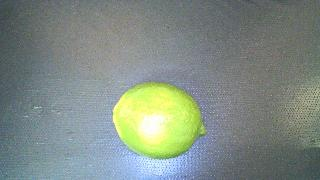EXPORTACION: (113, 82, 206, 159)
